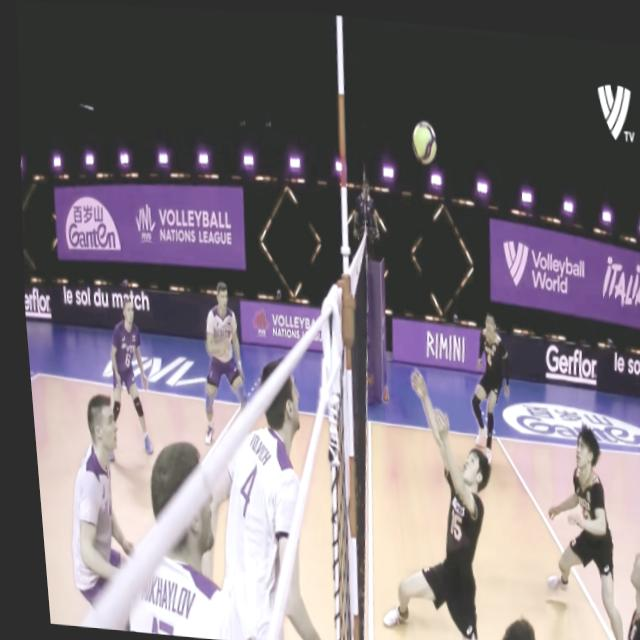player: (350, 360, 499, 640), (47, 392, 151, 633), (523, 414, 633, 640), (186, 275, 258, 447), (90, 295, 158, 459), (458, 299, 514, 461)
